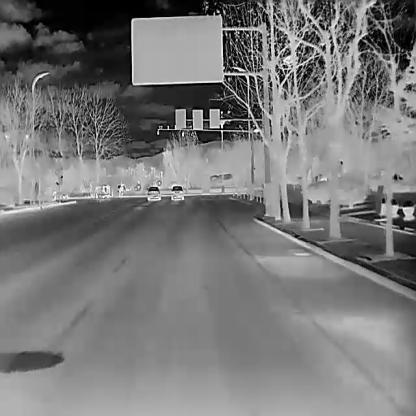car: (146, 185, 161, 201), (94, 184, 111, 198), (171, 184, 184, 200)
